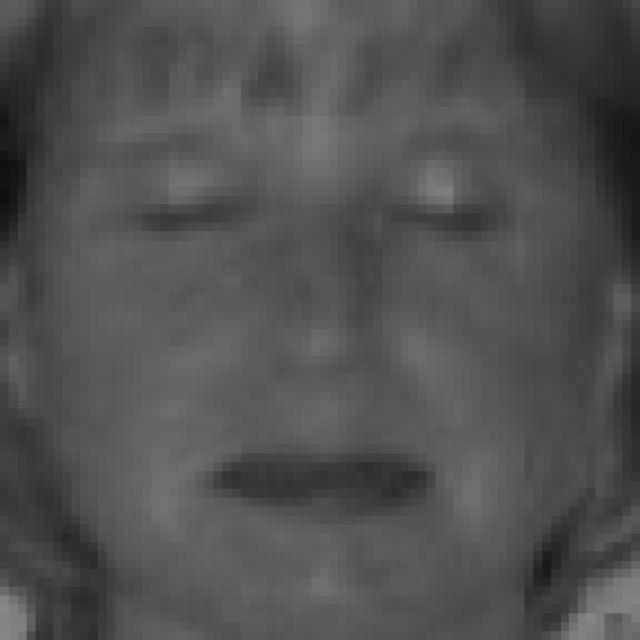real: (27, 2, 612, 634), (114, 158, 518, 264)
